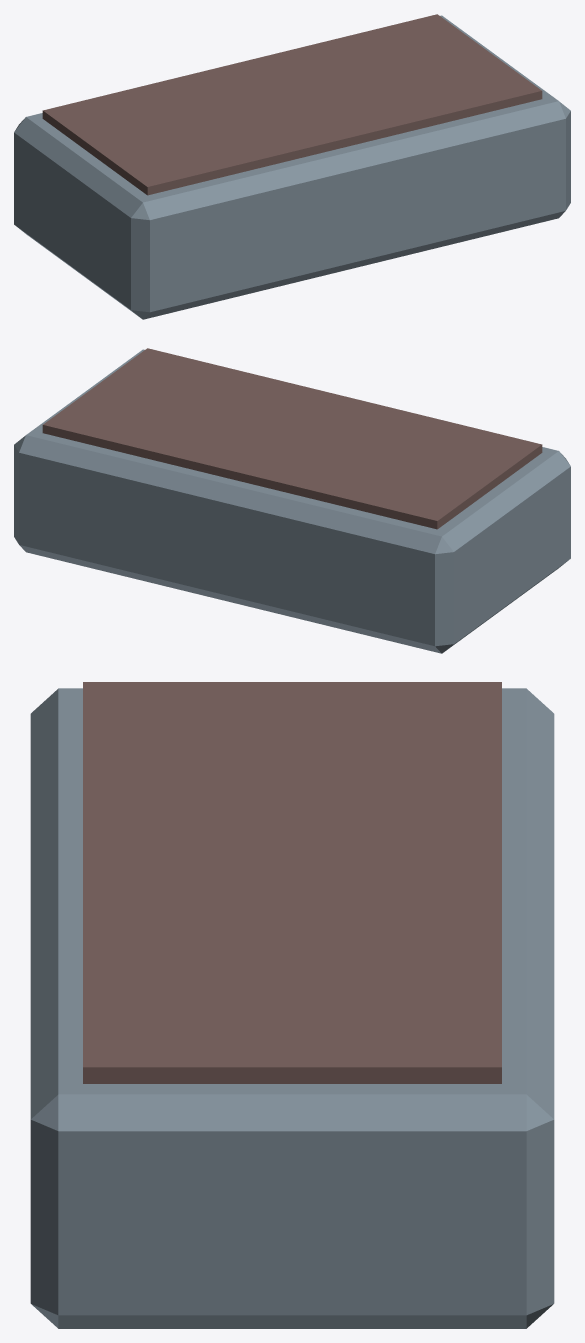
The model's file is SM_ENV_Planter_001_Rectangle.glb.
3 views of the same model, one above another, from view 1: azimuth 30°, elevation 25°; view 2: azimuth 150°, elevation 25°; view 3: azimuth 270°, elevation 25° (orthographic). The views are drawn at different scales.
Parts seen in each view (by area): view 1: SM_ENV_Planter_001_Rectangle; view 2: SM_ENV_Planter_001_Rectangle; view 3: SM_ENV_Planter_001_Rectangle.
Boxes of the visible parts, <box> form: SM_ENV_Planter_001_Rectangle: <box>14,14,570,319</box>; SM_ENV_Planter_001_Rectangle: <box>14,348,570,653</box>; SM_ENV_Planter_001_Rectangle: <box>30,682,554,1328</box>.
Size of the model in its own units: 1.65 by 0.45 by 0.85.
